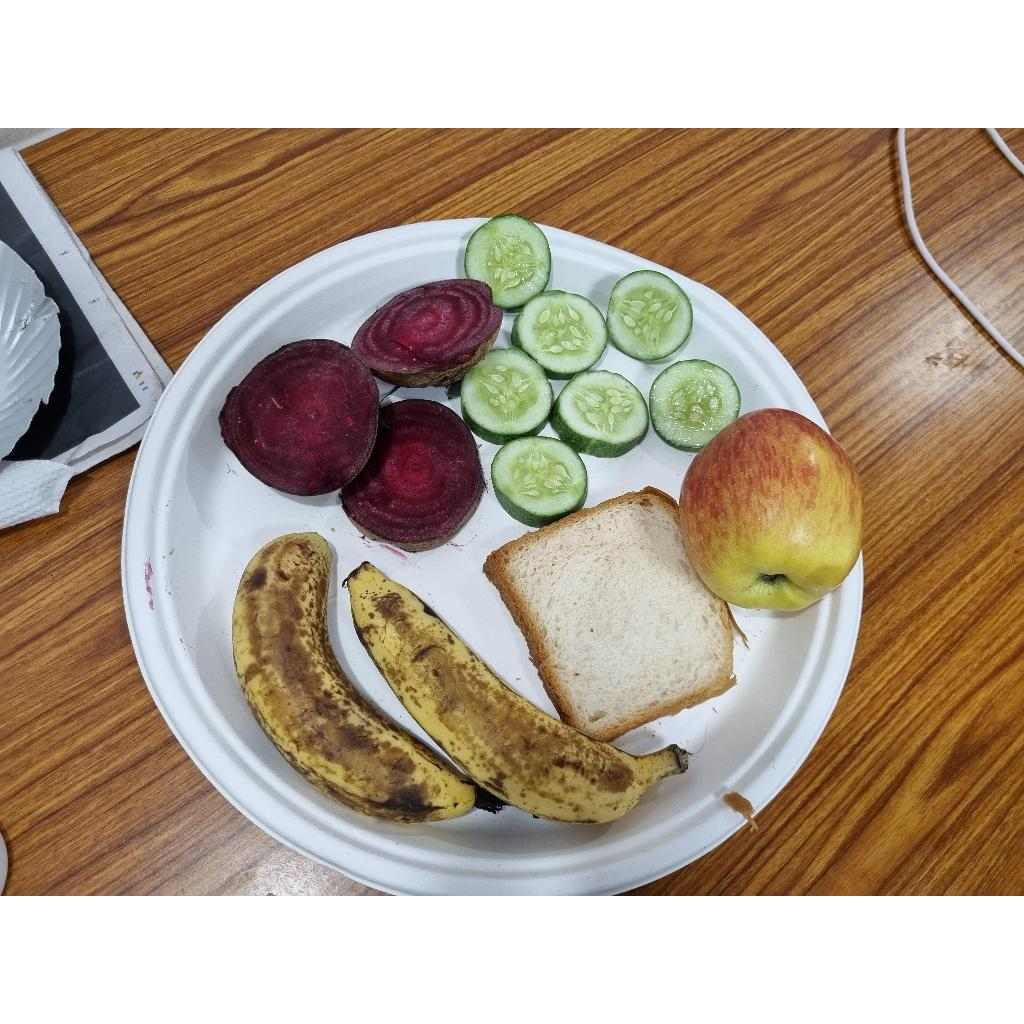apple: (674, 410, 865, 618)
banana: (335, 563, 676, 825), (230, 534, 504, 826)
cucumber: (462, 344, 563, 444), (545, 369, 652, 461), (490, 435, 590, 530), (599, 270, 694, 370), (509, 291, 610, 380), (465, 215, 553, 317), (647, 359, 741, 454)
